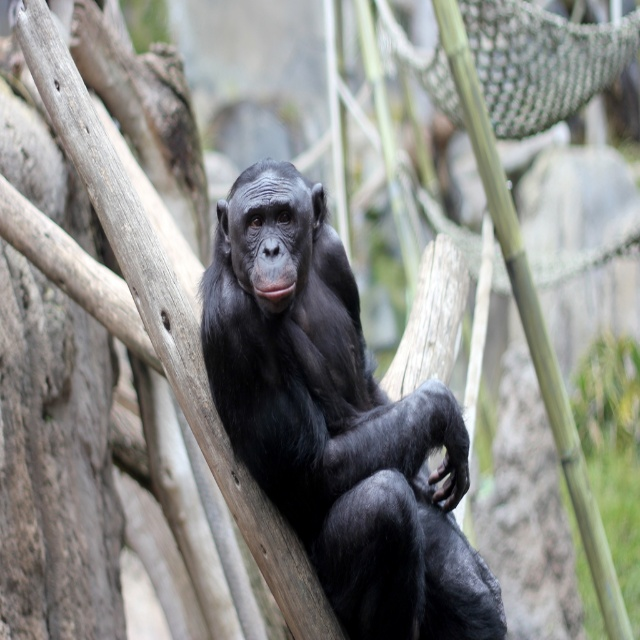Monkey: (194, 156, 509, 640)
